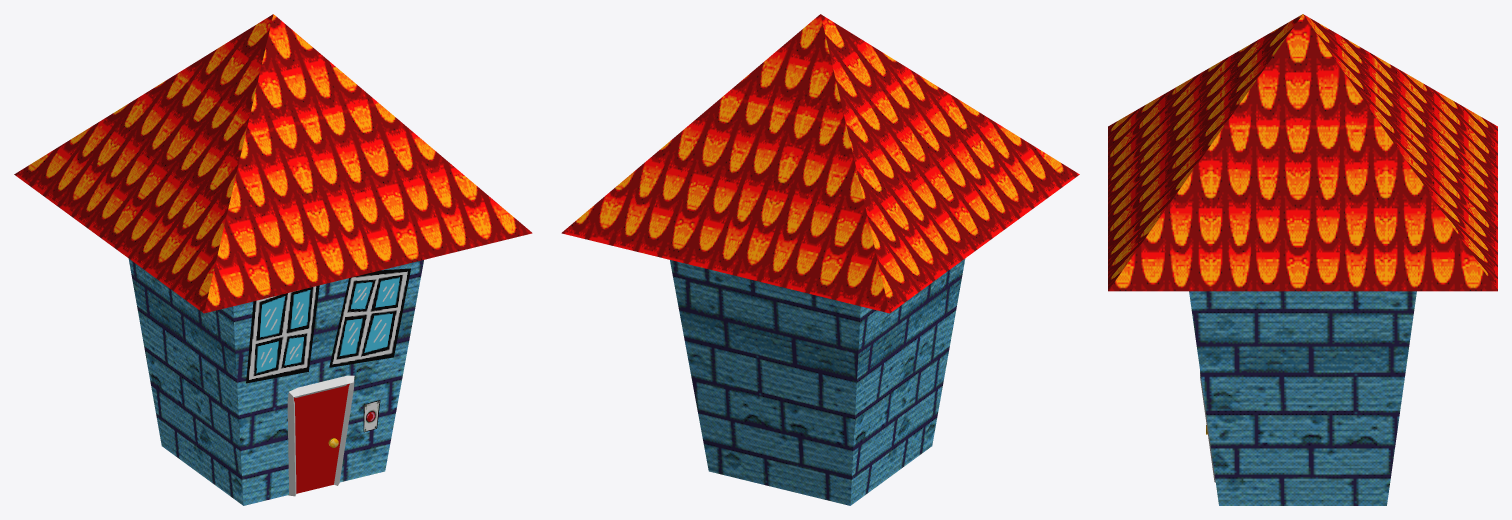
File: House1.fbx
3 views of the same model, side by side, from view 1: azimuth 30°, elevation 25°; view 2: azimuth 150°, elevation 25°; view 3: azimuth 270°, elevation 25° (orthographic). The views are drawn at different scales.
Parts seen in each view (by area): view 1: House, Plane.005, DoorFrame.001, DoorFrame; view 2: House; view 3: House.
Boxes of the visible parts, x1,y1,x2,y2 form: House: (14,14,532,505); Plane.005: (246,268,410,383); DoorFrame.001: (294,383,349,493); DoorFrame: (287,375,354,496); House: (561,14,1079,505); House: (1108,14,1497,505).
Size of the model in its own units: 49.93 by 64.65 by 49.93.
